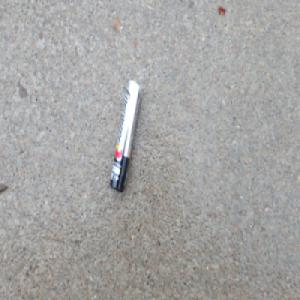Battery: (109, 77, 141, 193)
